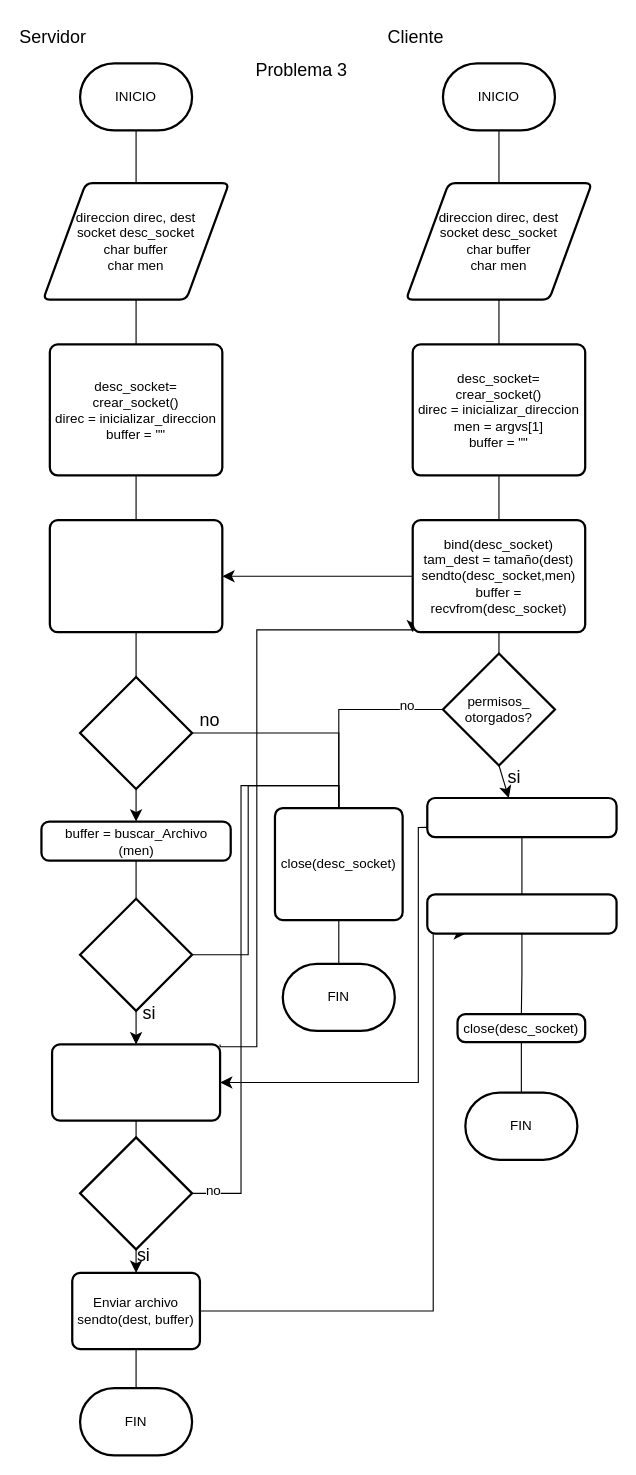
Some shapes in this 636 by 1475 pixel diagram are drawn without their labels. The shapes that lost their labels are listed below. From the top down, each one's centre as x and y in pixels, then its label:
At point (135, 576): "bind(desc_socket) tam_dest = tamaño(dest) men = recvfrom(desc_socket)".
At point (135, 732): "men != NULL?".
At point (521, 817): "mandar permisos sendto(desc_socket,permisos)".
At point (521, 913): "recibirArchivo recvfrom(desc_socket,archivo)".
At point (135, 954): "archivo encontrado?".
At point (135, 1082): "Preguntar por validación de permisos sendto(dest, buffer) recvfrom(desc_socket)".
At point (135, 1193): "Hay permisos?".
